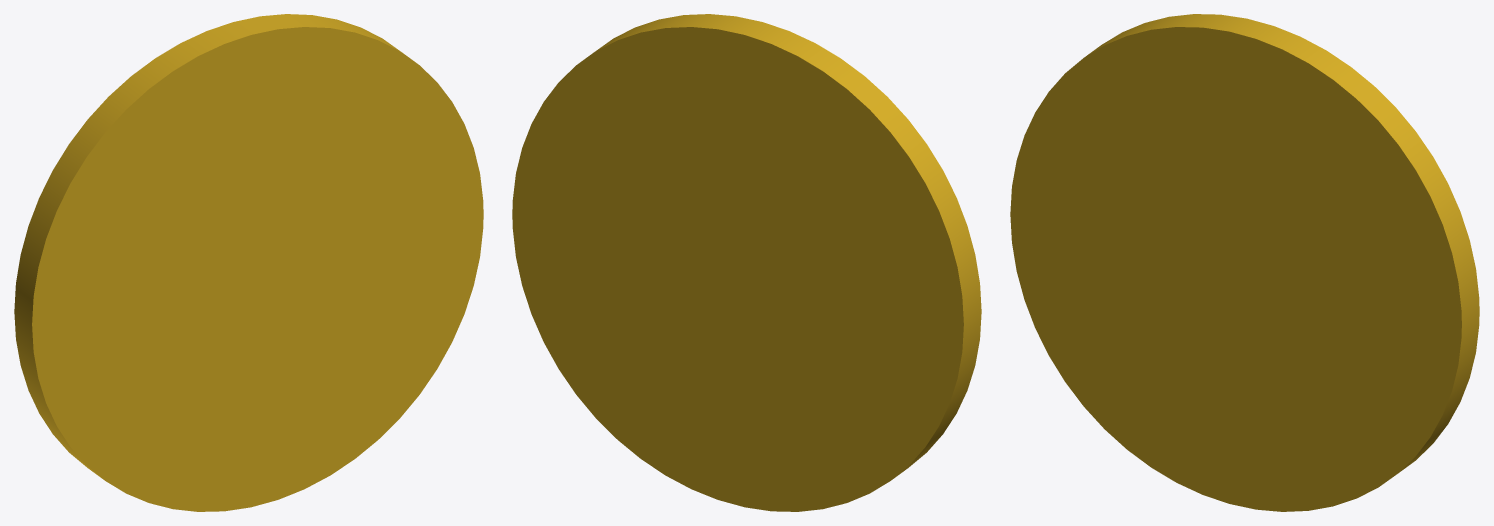
The model's file is five_hundred.fbx.
The picture shows the model from 3 angles, left to right: view 1: azimuth 30°, elevation 25°; view 2: azimuth 150°, elevation 25°; view 3: azimuth 330°, elevation 25°; orthographic projection.
Visible parts, largest first — view 1: 3DGeom~4; view 2: 3DGeom~4; view 3: 3DGeom~4.
Part boxes in pixels (left/top/right/bottom): 3DGeom~4: left=14, top=14, right=483, bottom=511; 3DGeom~4: left=512, top=14, right=981, bottom=511; 3DGeom~4: left=1010, top=14, right=1479, bottom=511.
Size of the model in its own units: 0.0265 by 0.0018 by 0.0265.
